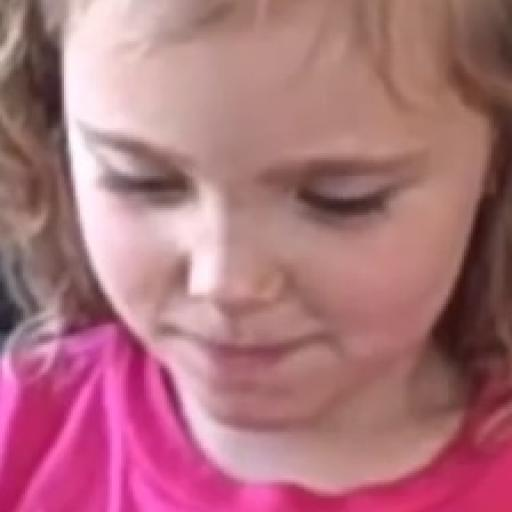Autism: (36, 0, 512, 422)
